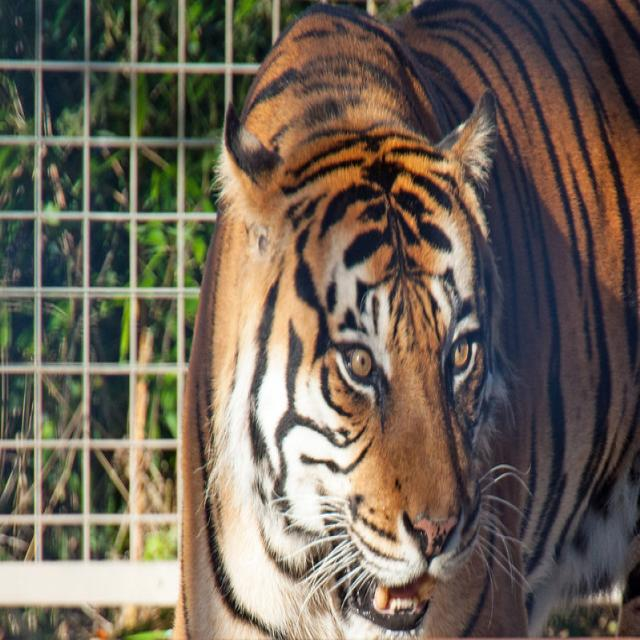Tiger: (178, 1, 638, 635)
